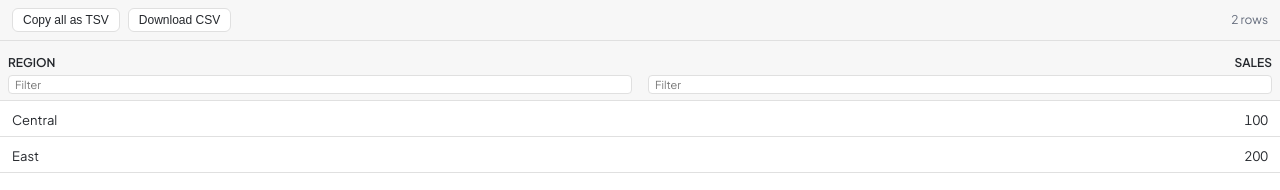
Test: TableArtifact › filters rows by a per-column query before sort
This screenshot has width=1280, height=190.
In the search field named "Filter REGION": (320, 84) [8,75,632,94], type "east"
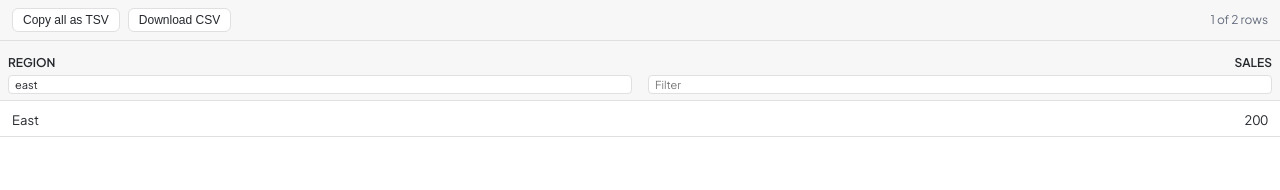
Result: the text "1 of 2 rows" is shown at [1210,10,1268,30]
